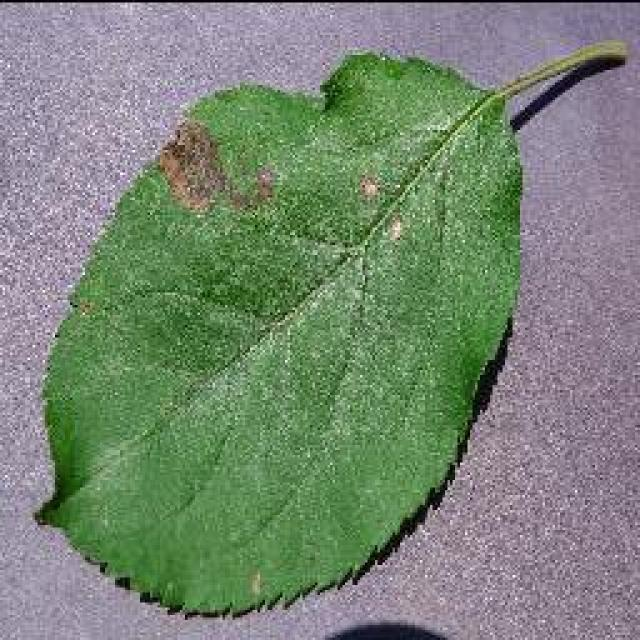Black_rot: (32, 38, 628, 620)
